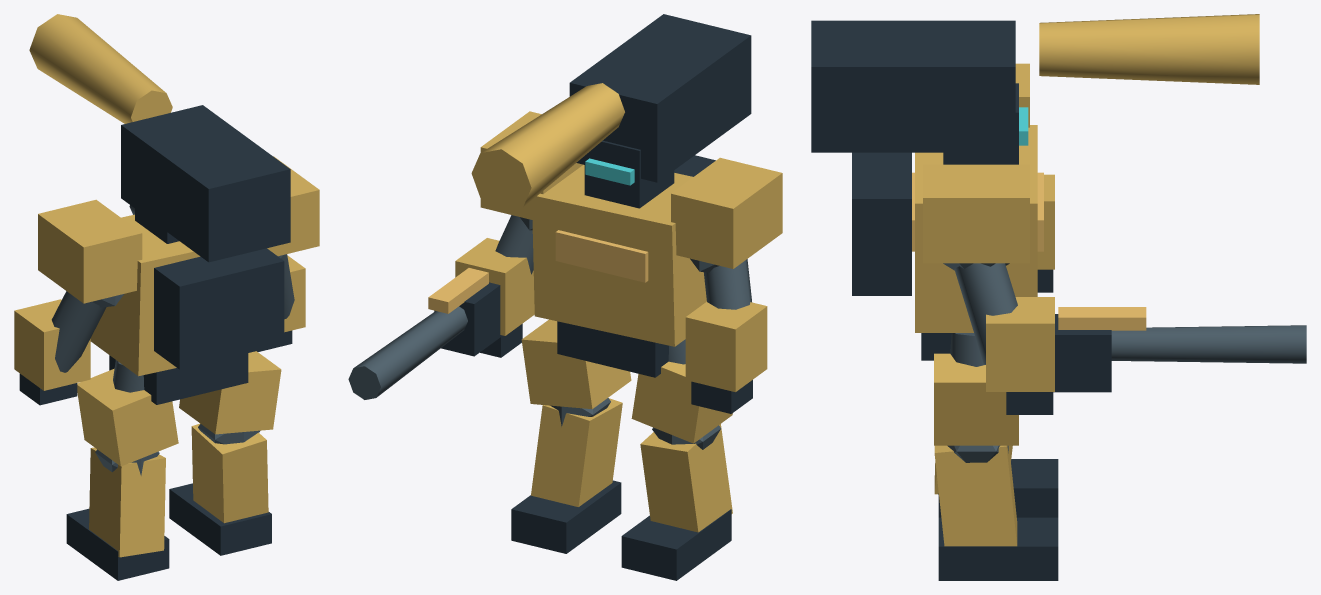
Rendered from frame-sherman.glb.
3 renders of one model, left to right at view 1: azimuth 30°, elevation 25°; view 2: azimuth 150°, elevation 25°; view 3: azimuth 270°, elevation 25°, orthographic. The views are drawn at different scales.
Parts seen in each view (by area): view 1: frame-sherman; view 2: frame-sherman; view 3: frame-sherman.
Part boxes in pixels (bbox=[...]): frame-sherman: bbox=[14, 14, 319, 580]; frame-sherman: bbox=[348, 14, 782, 580]; frame-sherman: bbox=[811, 14, 1306, 580].
Bounding box in the file's own units: 1.12 × 1.83 × 1.57.
